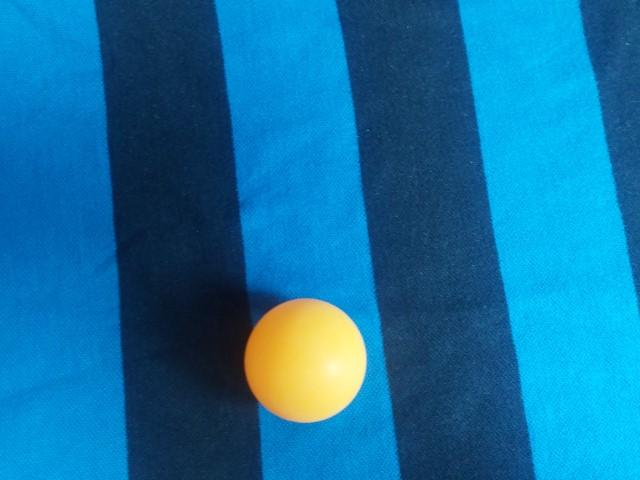oball: (266, 52, 402, 185)
